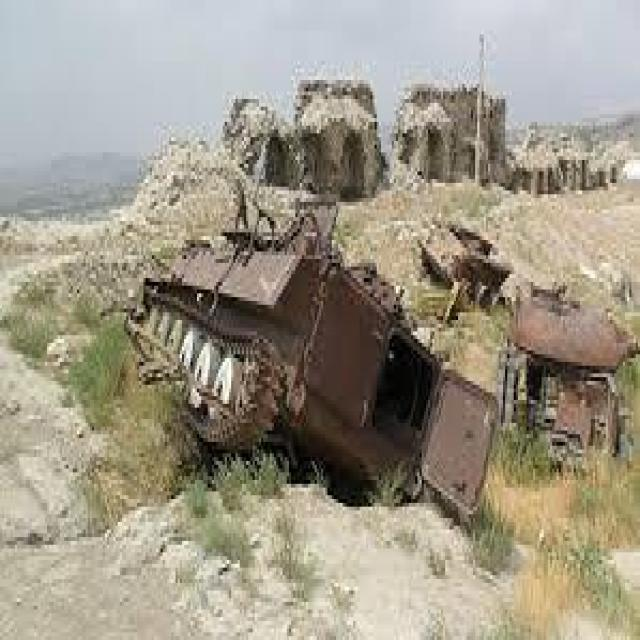Tanks: (143, 214, 471, 511), (507, 276, 621, 455), (432, 219, 506, 311)
